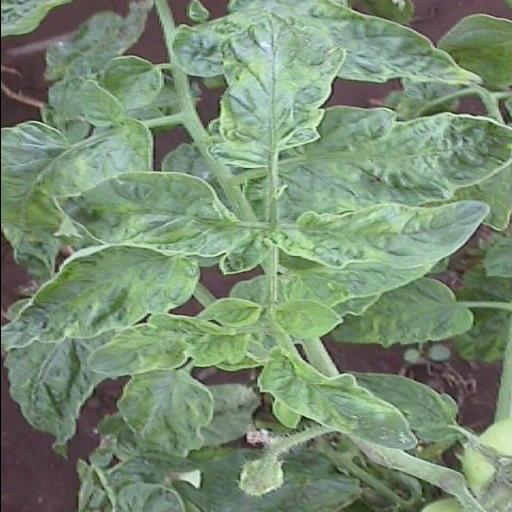Mosaic Virus: (268, 110, 512, 208), (5, 250, 205, 356), (214, 20, 342, 163), (54, 172, 256, 258), (260, 350, 424, 450), (280, 199, 492, 271), (83, 317, 249, 375), (120, 368, 212, 466)
